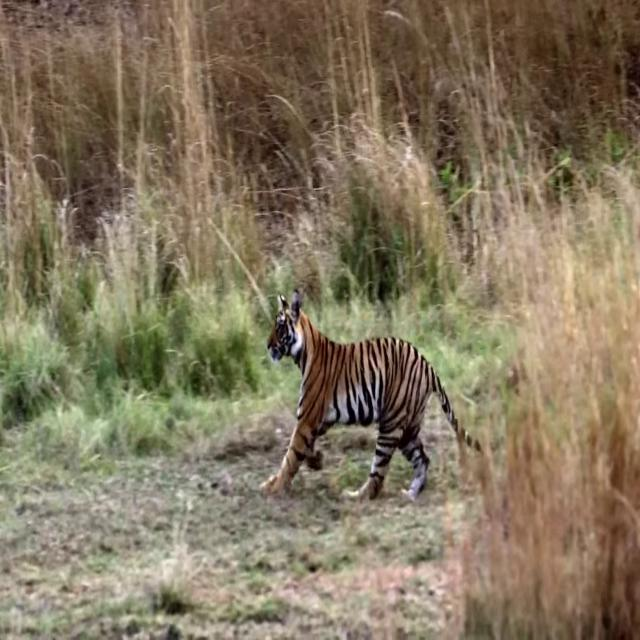tiger: (266, 292, 502, 502)
